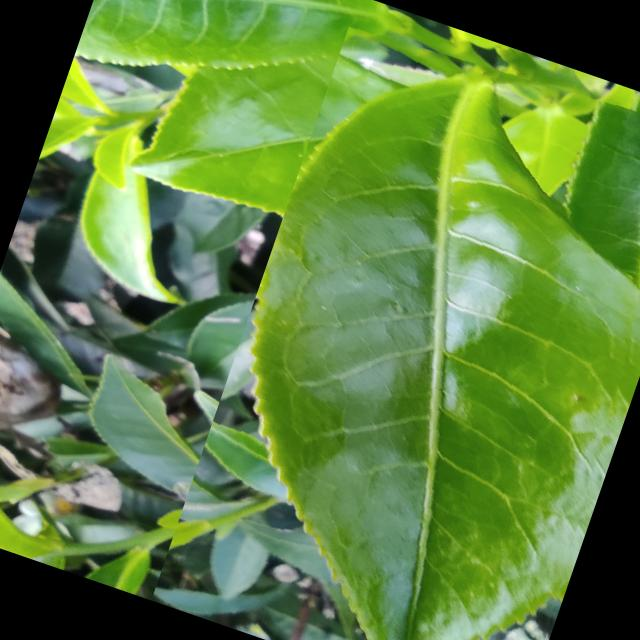Category B(2-4 days): (149, 10, 640, 640)
